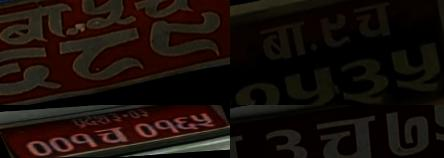0: (21, 139, 56, 156), (46, 135, 77, 153), (131, 122, 161, 138), (126, 110, 141, 118)
1: (66, 132, 102, 148), (150, 118, 180, 134)
2: (230, 73, 289, 105)
3: (333, 50, 395, 105), (258, 120, 316, 158), (104, 112, 124, 122), (135, 107, 151, 117)
5: (386, 39, 444, 105), (281, 61, 343, 105), (76, 0, 138, 37), (427, 105, 444, 156), (188, 112, 216, 128)
6: (0, 39, 62, 105), (170, 117, 196, 131)
7: (379, 105, 435, 158)
8: (56, 24, 149, 88)
9: (142, 7, 230, 69), (316, 7, 354, 54)
ba: (0, 0, 77, 51), (257, 20, 313, 68)
cha: (309, 108, 386, 158), (350, 0, 396, 48), (126, 0, 203, 25), (90, 127, 133, 144)
